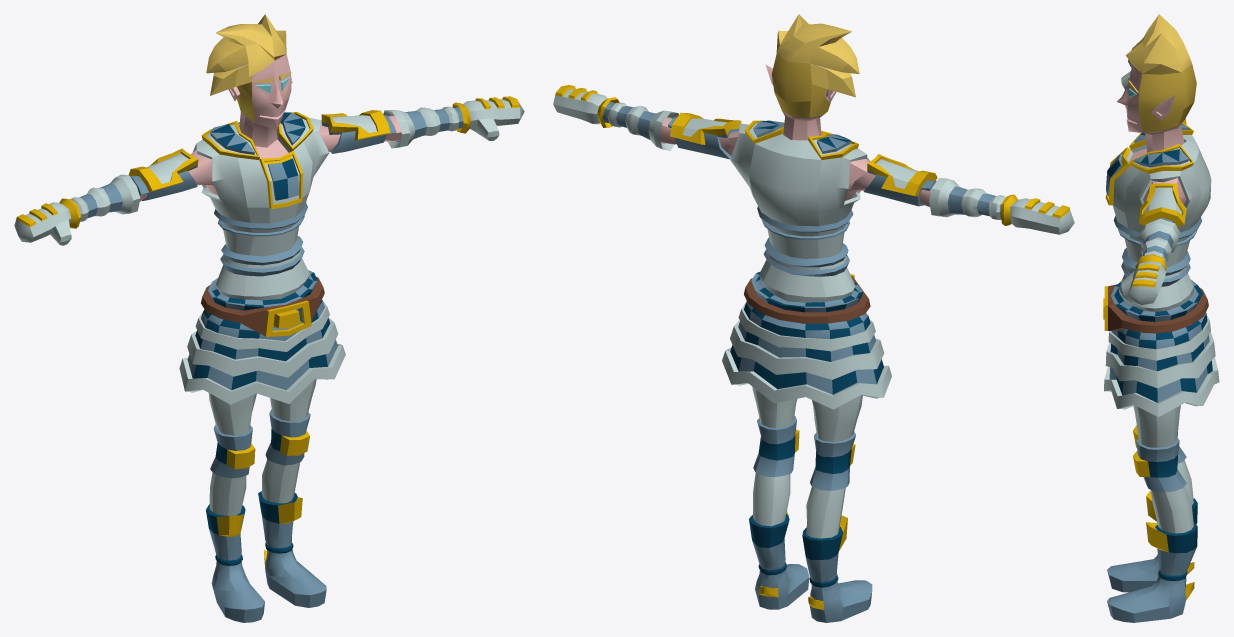
Rendered from elfa.fbx.
3 views of the same model, side by side, from view 1: azimuth 30°, elevation 25°; view 2: azimuth 150°, elevation 25°; view 3: azimuth 270°, elevation 25° (orthographic). The views are drawn at different scales.
Visible parts, largest first — view 1: elfa; view 2: elfa; view 3: elfa.
Boxes of the visible parts, bbox=[...] form: elfa: bbox=[14, 14, 524, 622]; elfa: bbox=[553, 14, 1074, 622]; elfa: bbox=[1103, 14, 1219, 622].
Bounding box in the file's own units: 54.81 × 60.03 × 11.08.
